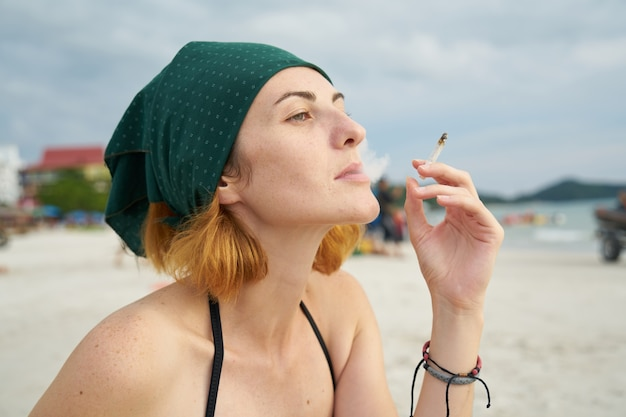cigarette: (423, 132, 448, 172)
